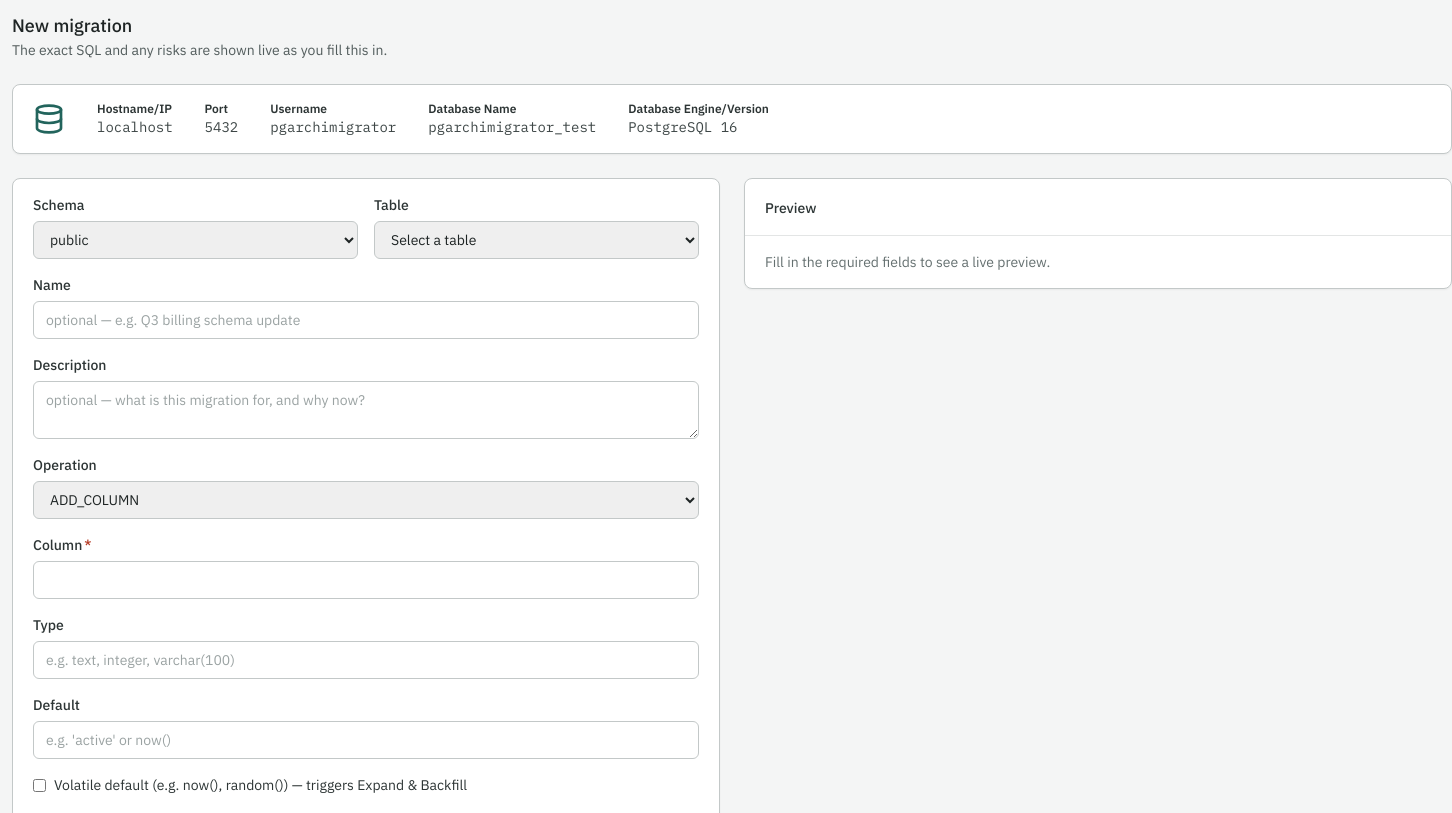
Scenario: NewMigration — table overview panel › shows up to 5 sample rows with real cell values
The image size is (1452, 813).
Select "orders" in the dropdown labelled "Table": point(536, 240) 374,221 -> 699,259
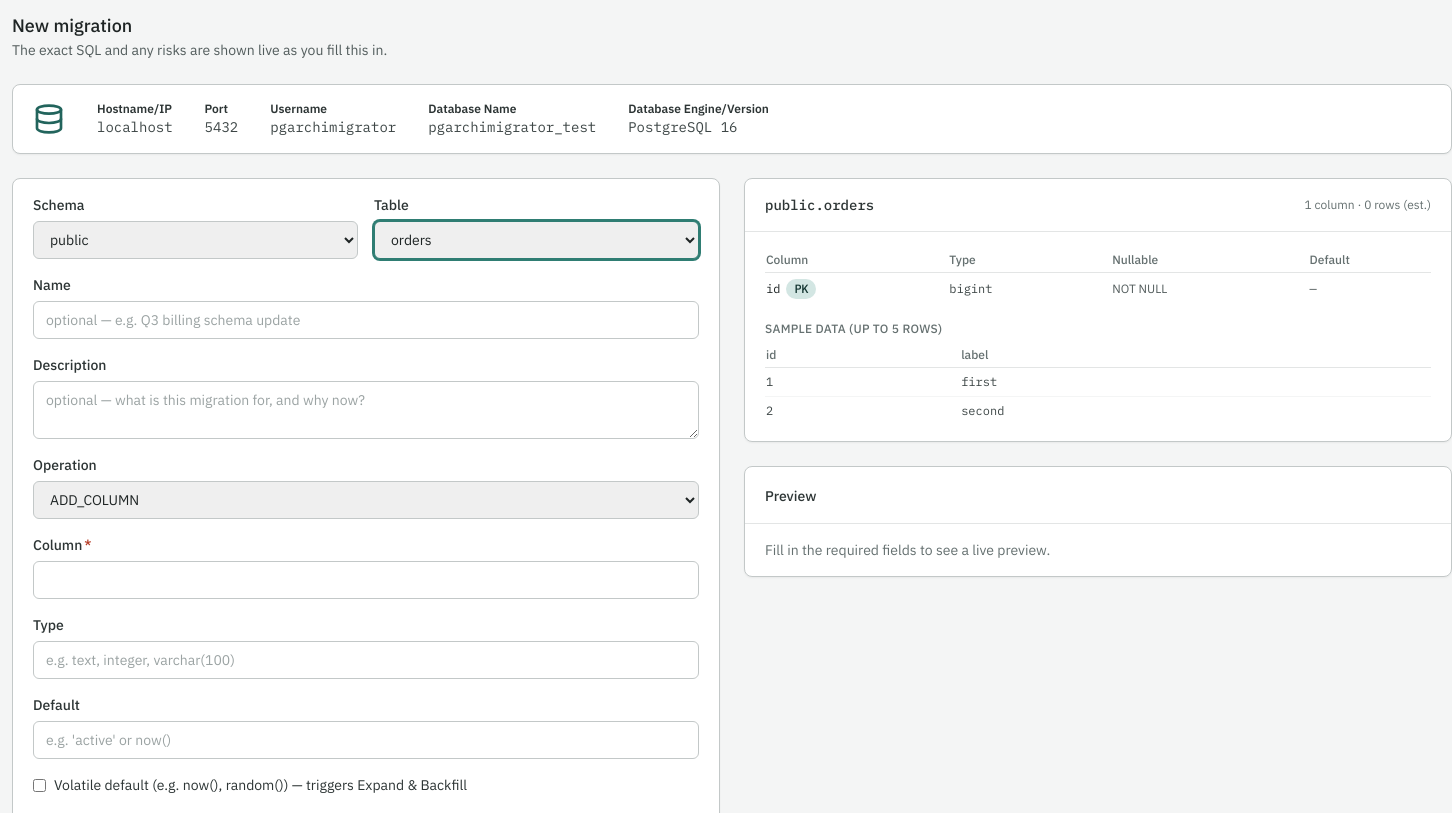
expect the text "first" is shown: met, box 960,368 -> 1431,396
expect the text "second" is shown: met, box 960,396 -> 1431,425
